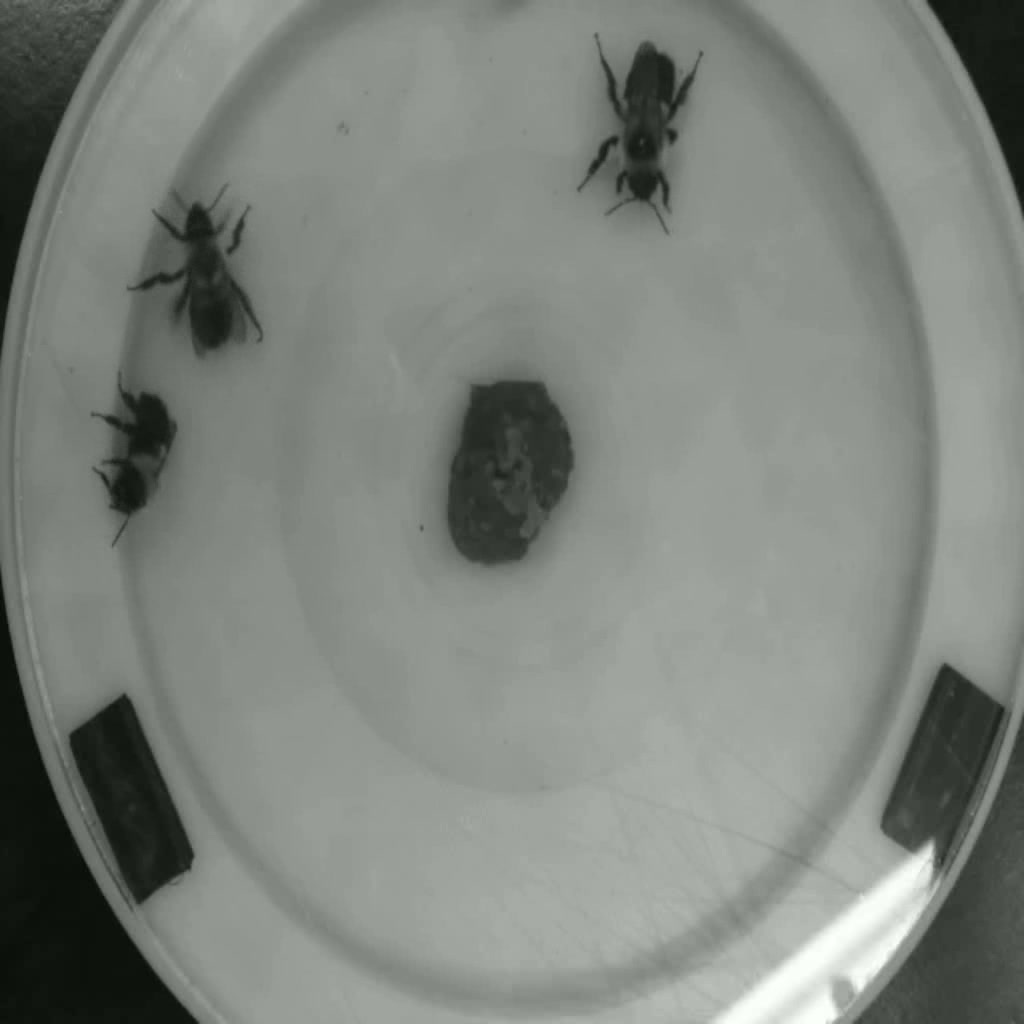bee: (604, 41, 703, 217), (150, 200, 262, 351), (94, 391, 183, 510)
